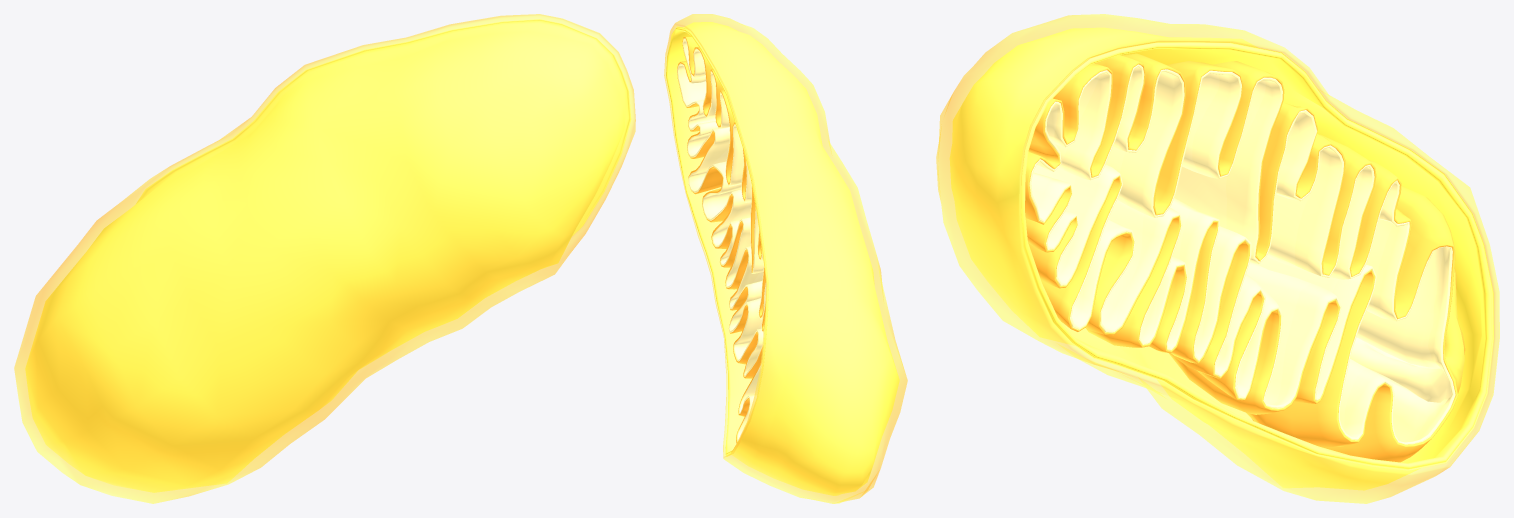
The model's file is mitochondria_open.fbx.
3 views of the same model, side by side, from view 1: azimuth 30°, elevation 25°; view 2: azimuth 150°, elevation 25°; view 3: azimuth 270°, elevation 25° (orthographic). The views are drawn at different scales.
Parts seen in each view (by area): view 1: Mitochondria_Outer_Membrane; view 2: Mitochondria_Outer_Membrane, Mitochondria_Inner_Membrane1; view 3: Mitochondria_Inner_Membrane1, Mitochondria_Outer_Membrane.
Part boxes in pixels (left/top/right/bottom): Mitochondria_Outer_Membrane: left=14, top=14, right=635, bottom=503; Mitochondria_Outer_Membrane: left=664, top=14, right=907, bottom=503; Mitochondria_Inner_Membrane1: left=677, top=37, right=766, bottom=443; Mitochondria_Inner_Membrane1: left=1025, top=53, right=1465, bottom=462; Mitochondria_Outer_Membrane: left=936, top=14, right=1499, bottom=503.
Bounding box in the file's own units: 299 × 311 × 265.
